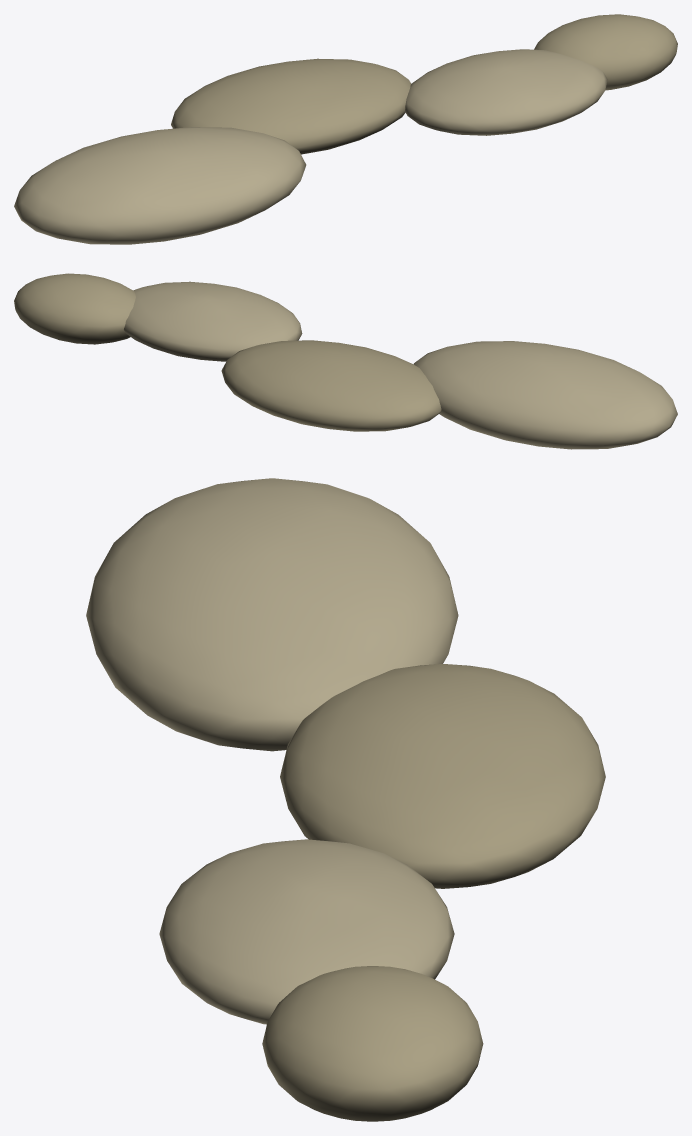
The model's file is snake-shed-skin.obj.
The picture shows the model from 3 angles, top to bottom: view 1: azimuth 30°, elevation 25°; view 2: azimuth 150°, elevation 25°; view 3: azimuth 270°, elevation 25°; orthographic projection. The views are drawn at different scales.
Parts seen in each view (by area): view 1: snake-shed-skin; view 2: snake-shed-skin; view 3: snake-shed-skin.
Part boxes in pixels (left/top/right/bottom): snake-shed-skin: left=14, top=14, right=677, bottom=244; snake-shed-skin: left=14, top=273, right=677, bottom=449; snake-shed-skin: left=86, top=478, right=605, bottom=1121.
Bounding box in the file's own units: 0.7184 × 0.0682 × 0.2587.
